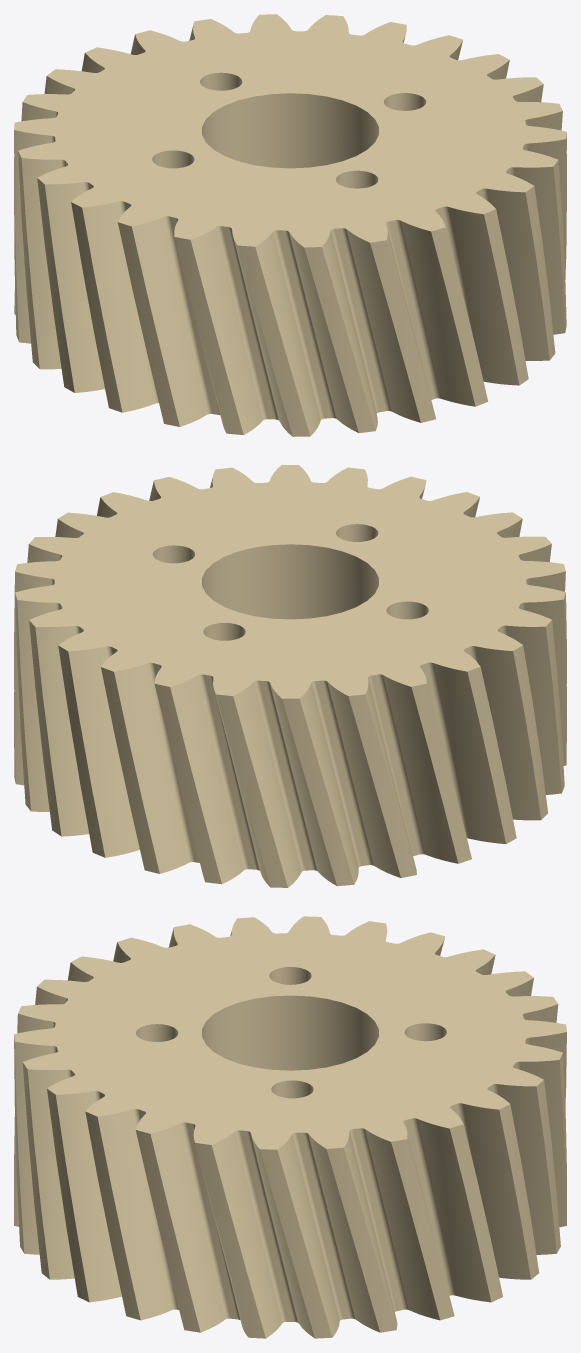
File: EngraneServo.gltf
3 renders of one model, top to bottom at view 1: azimuth 30°, elevation 25°; view 2: azimuth 150°, elevation 25°; view 3: azimuth 270°, elevation 25°, orthographic.
Parts seen in each view (by area): view 1: EngraneServo; view 2: EngraneServo; view 3: EngraneServo.
Part boxes in pixels (x1=…): EngraneServo: x1=14, y1=14, x2=566, y2=436; EngraneServo: x1=14, y1=465, x2=566, y2=887; EngraneServo: x1=14, y1=916, x2=566, y2=1338.
Size of the model in its own units: 0.0286 by 0.0108 by 0.0286.
